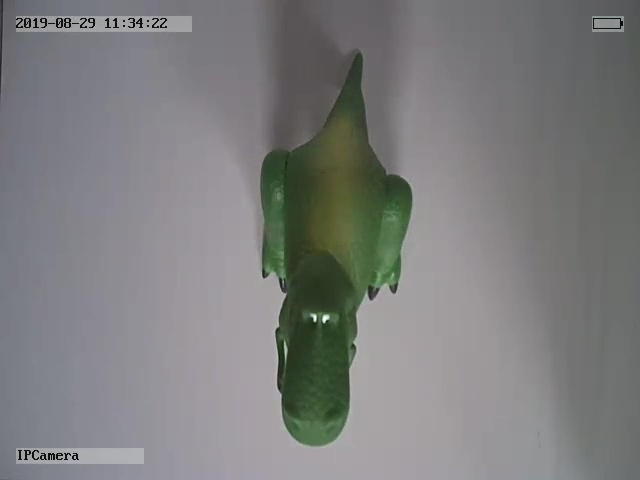rex: (260, 51, 415, 448)
